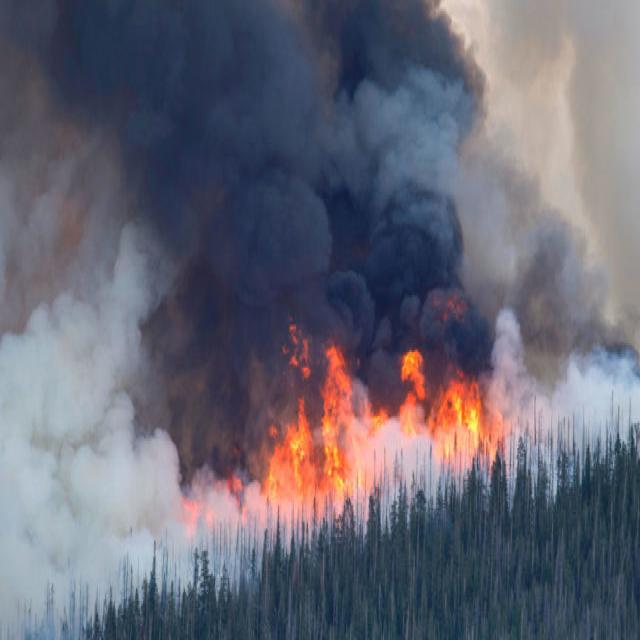Fire: (0, 0, 640, 640), (163, 314, 508, 554)
